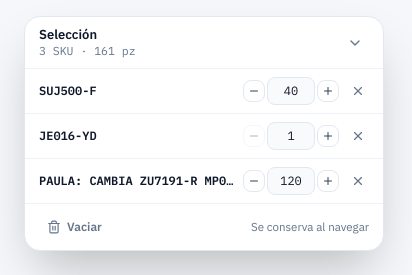
Scenario: [INV-B8.2] PanelSeleccion › el campo no acepta letras ni signos: la cantidad no puede envenenarse desde el teclado
Replace the text in the field named "Cantidad de SUJ500-F" with "-9e5x" at (291, 91), box [267,77,315,105]
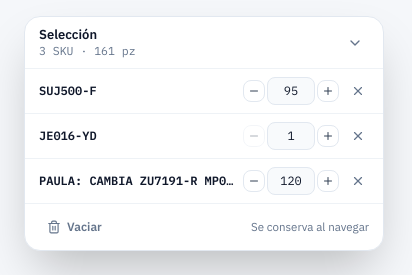
Check: the field named "Cantidad de SUJ500-F" holds "95", box [267,77,315,105]
